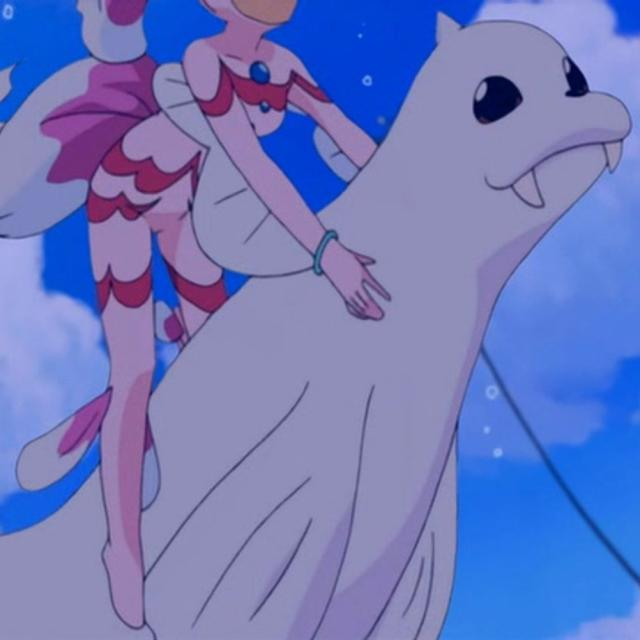Dewgong: (260, 9, 616, 633)
